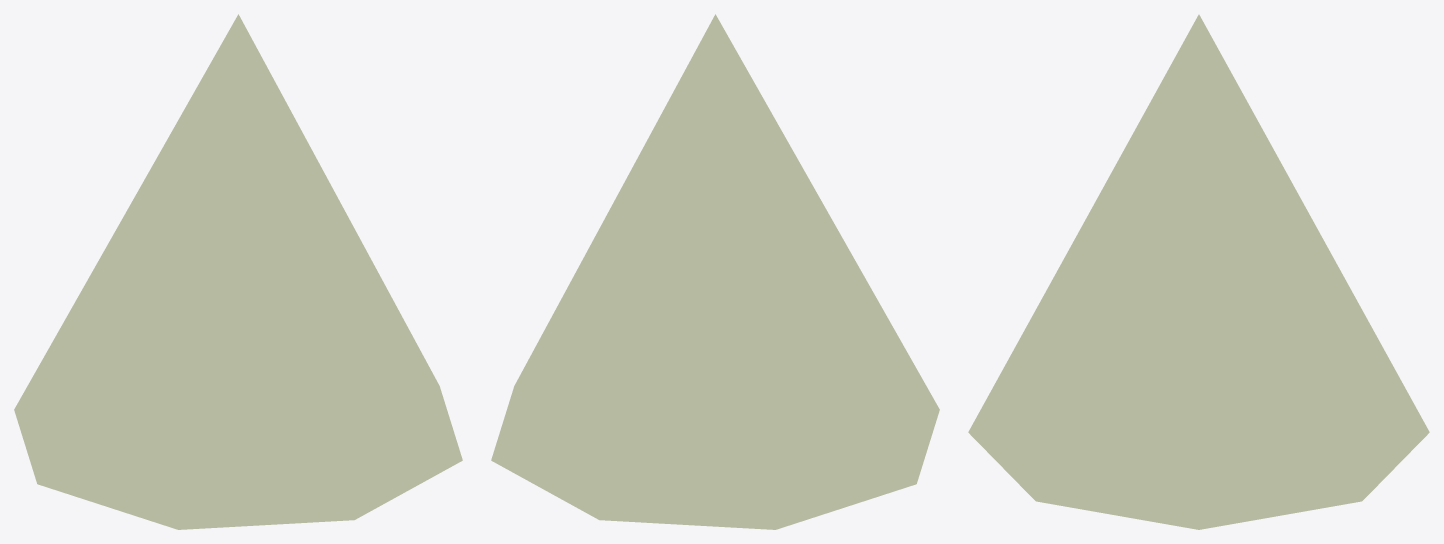
3 renders of one model, left to right at view 1: azimuth 30°, elevation 25°; view 2: azimuth 150°, elevation 25°; view 3: azimuth 270°, elevation 25°, orthographic.
Visible parts, largest first — view 1: cone16-0; view 2: cone16-0; view 3: cone16-0.
Boxes of the visible parts, x1,y1,x2,y2 form: cone16-0: (14,14,462,529); cone16-0: (491,14,939,529); cone16-0: (968,14,1429,529).
Size of the model in its own units: 1 by 1 by 1.
